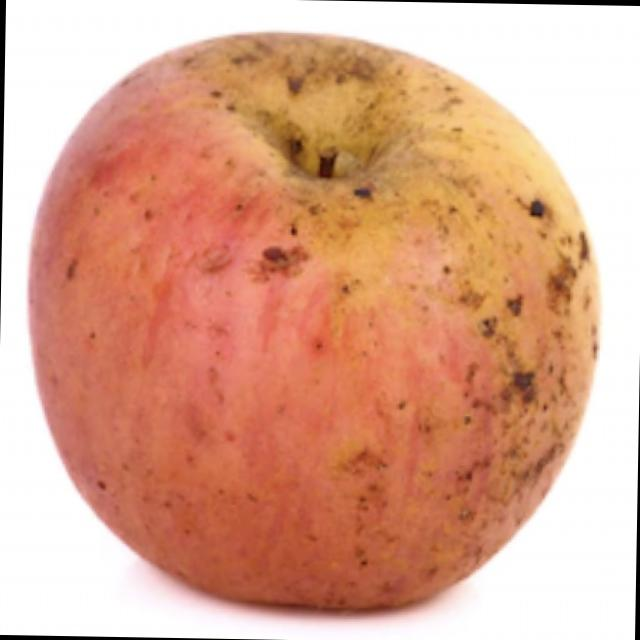rotten_apple: (29, 29, 602, 614)
